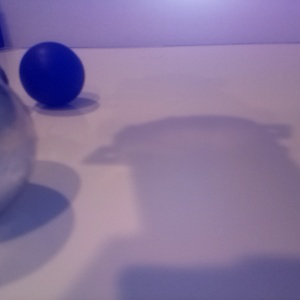alive_ball: (1, 80, 36, 212)
dead_ball: (19, 41, 85, 108), (1, 67, 11, 109)
